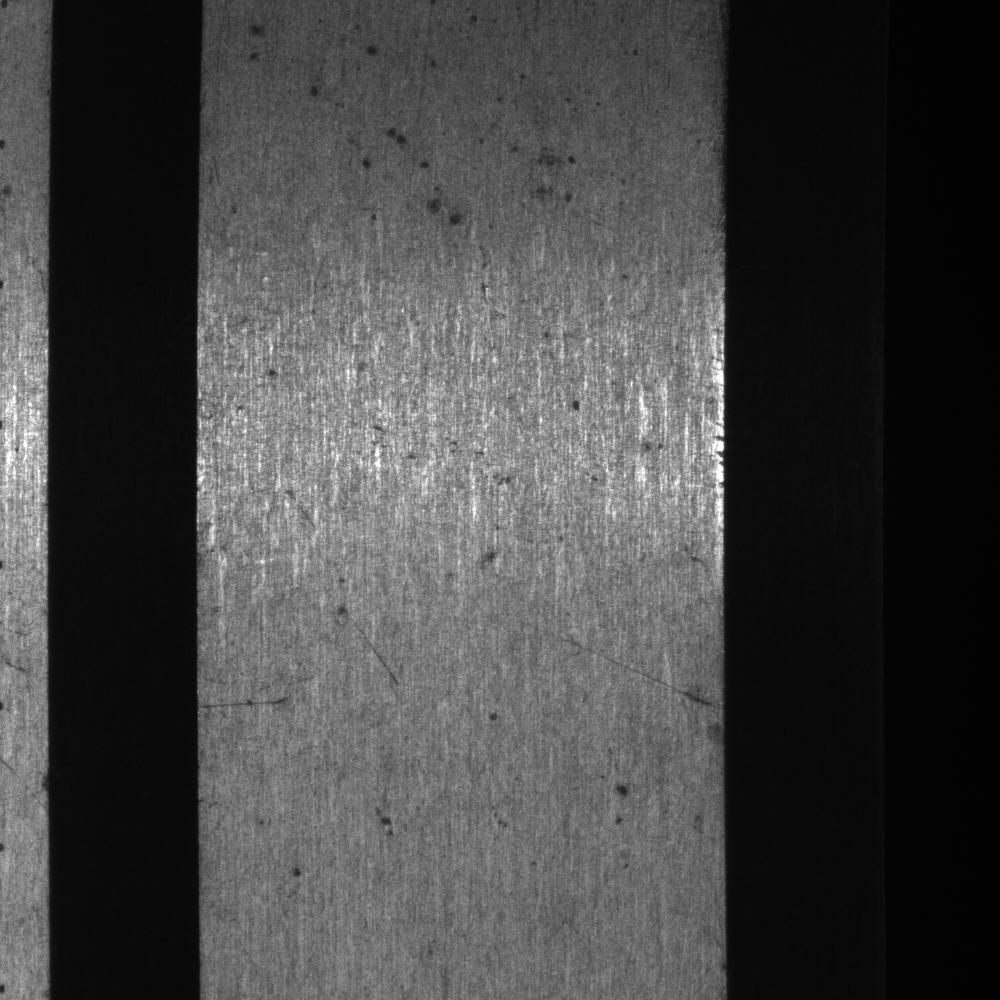Etching: (352, 120, 477, 245), (361, 410, 520, 493), (415, 17, 547, 108), (230, 13, 341, 104), (504, 137, 602, 221), (357, 12, 397, 71), (605, 778, 638, 830), (370, 803, 409, 840), (468, 543, 507, 572), (565, 390, 586, 420)
Pinhole: (479, 702, 503, 730), (284, 857, 307, 885)
Scar: (511, 604, 726, 729), (333, 600, 411, 701), (199, 679, 299, 723), (279, 481, 325, 537)
